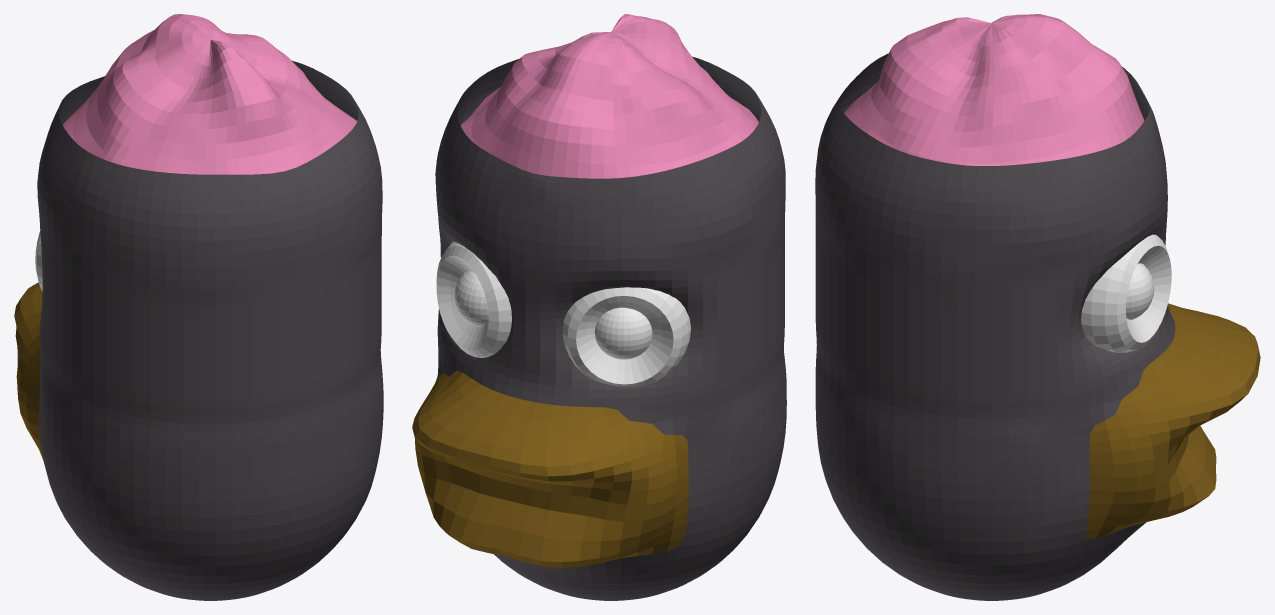
File: enemigo.fbx
3 views of the same model, side by side, from view 1: azimuth 30°, elevation 25°; view 2: azimuth 150°, elevation 25°; view 3: azimuth 270°, elevation 25° (orthographic). The views are drawn at different scales.
Visible parts, largest first — view 1: Cara, Cerebro, Boca; view 2: Cara, Boca, Cerebro, ParpadoR, ParpadoL, OjoR, OjoL; view 3: Cara, Cerebro, Boca, ParpadoL, OjoL.
Boxes of the visible parts, x1,y1,x2,y2 form: Cara: (37, 60, 383, 600); Cerebro: (62, 14, 357, 174); Boca: (14, 282, 43, 460); Cara: (435, 56, 786, 600); Boca: (412, 370, 688, 567); Cerebro: (460, 14, 758, 178); ParpadoR: (562, 287, 690, 386); ParpadoL: (436, 241, 511, 357); OjoR: (594, 307, 652, 359); OjoL: (454, 271, 488, 326); Cara: (815, 53, 1175, 600); Cerebro: (844, 14, 1144, 165); Boca: (1086, 303, 1260, 539); ParpadoL: (1081, 234, 1171, 352); OjoL: (1126, 263, 1154, 319).
Bounding box in the file's own units: 200 × 354 × 251.
